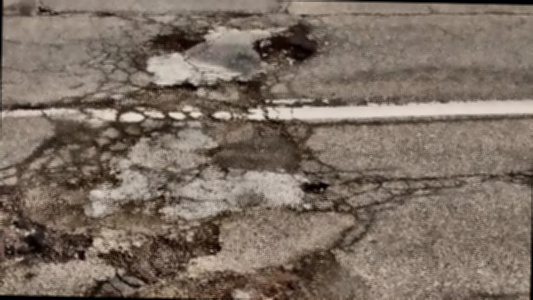pothole: (113, 233, 223, 285), (3, 217, 98, 264), (253, 26, 319, 67), (150, 30, 205, 56), (302, 179, 332, 195)
